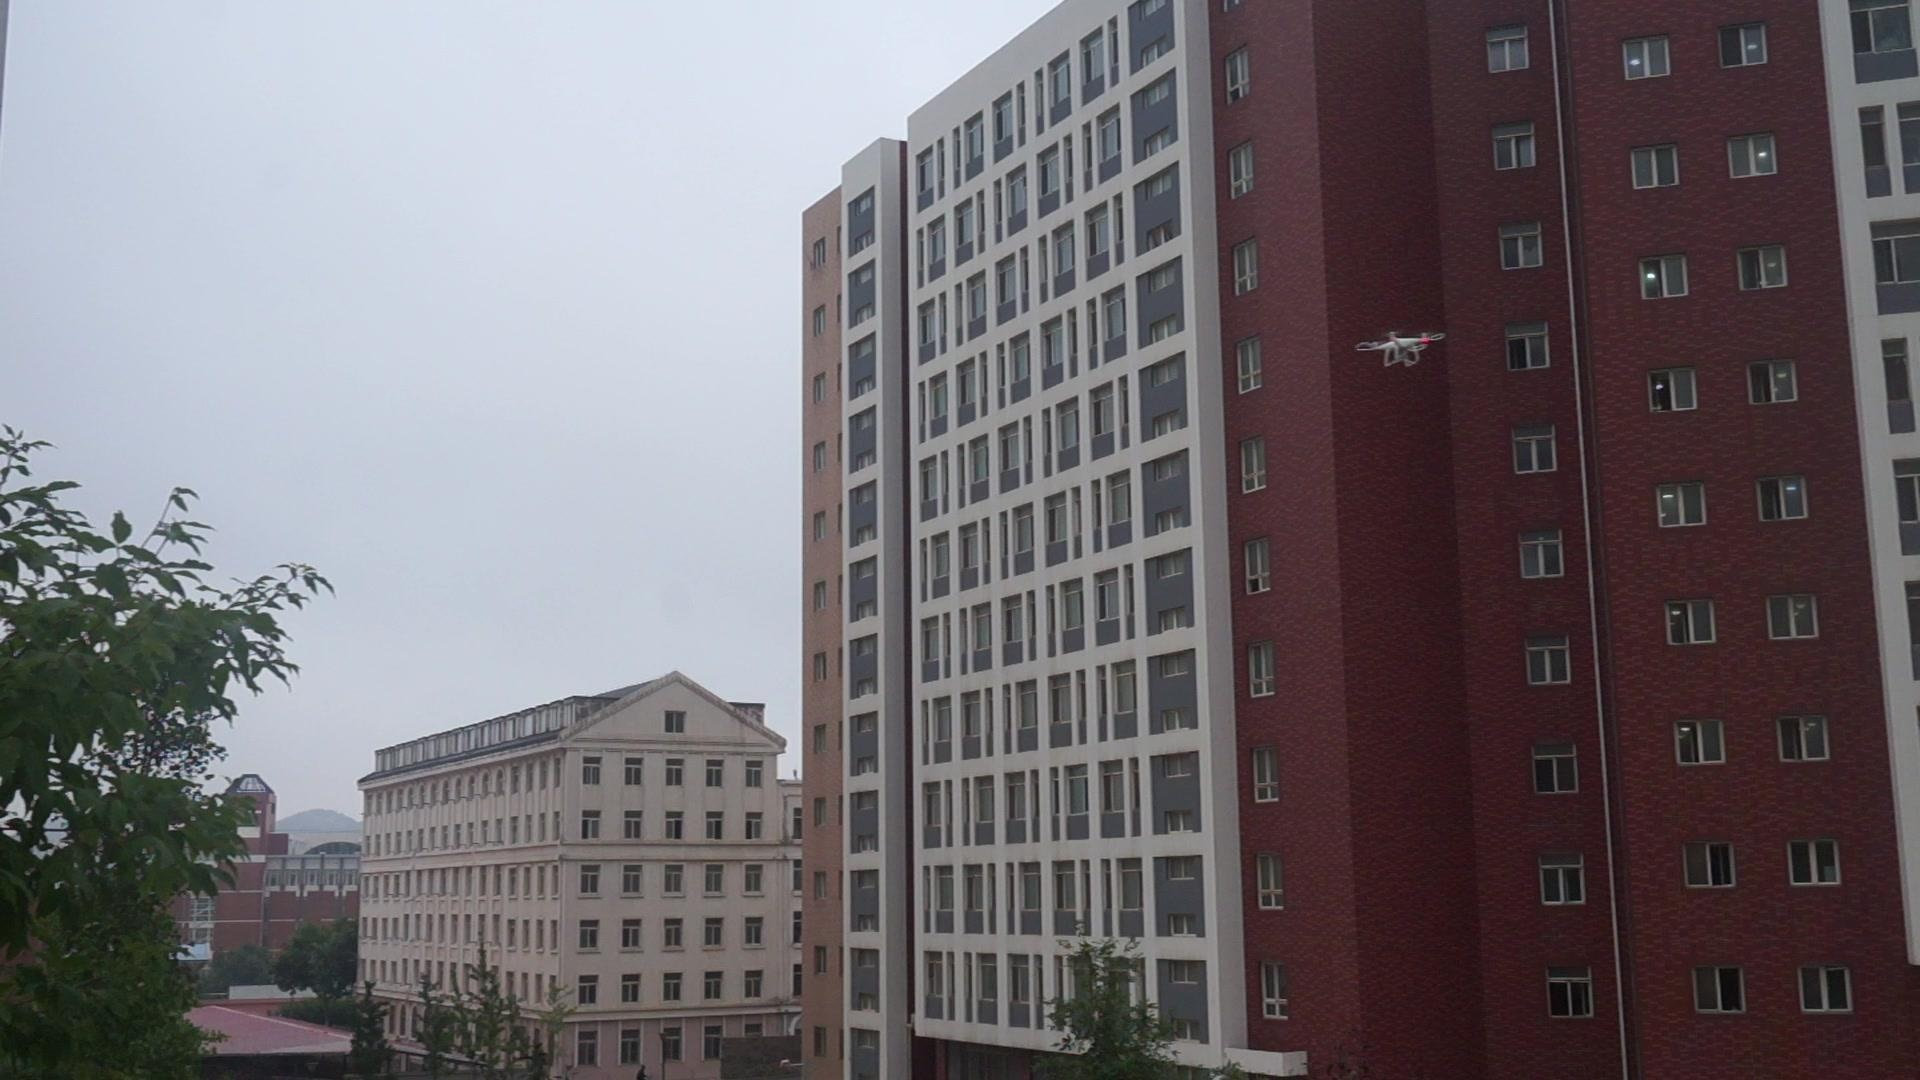UAV: (1356, 331, 1447, 368)
